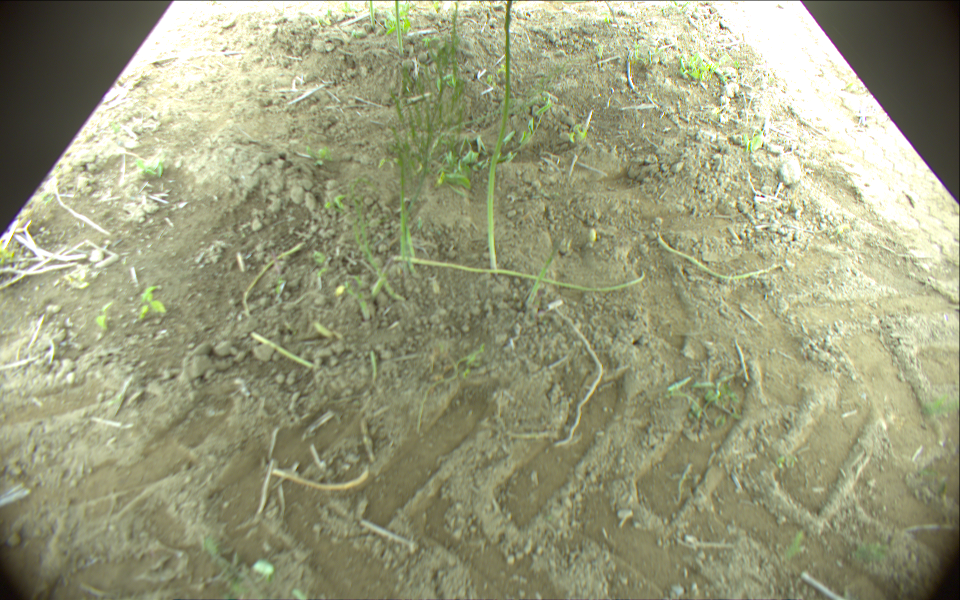aspa: (394, 255, 645, 293), (487, 1, 514, 272), (656, 233, 783, 279), (392, 1, 404, 55), (368, 1, 376, 27)
